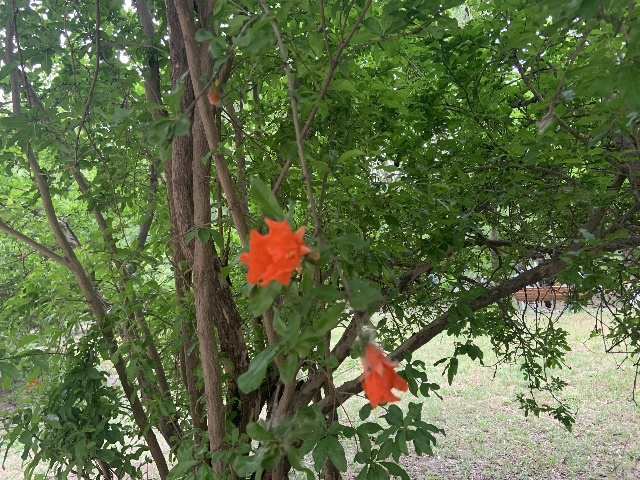bud: (208, 86, 220, 105)
flower: (239, 217, 310, 286), (358, 343, 408, 408), (25, 378, 38, 389)
